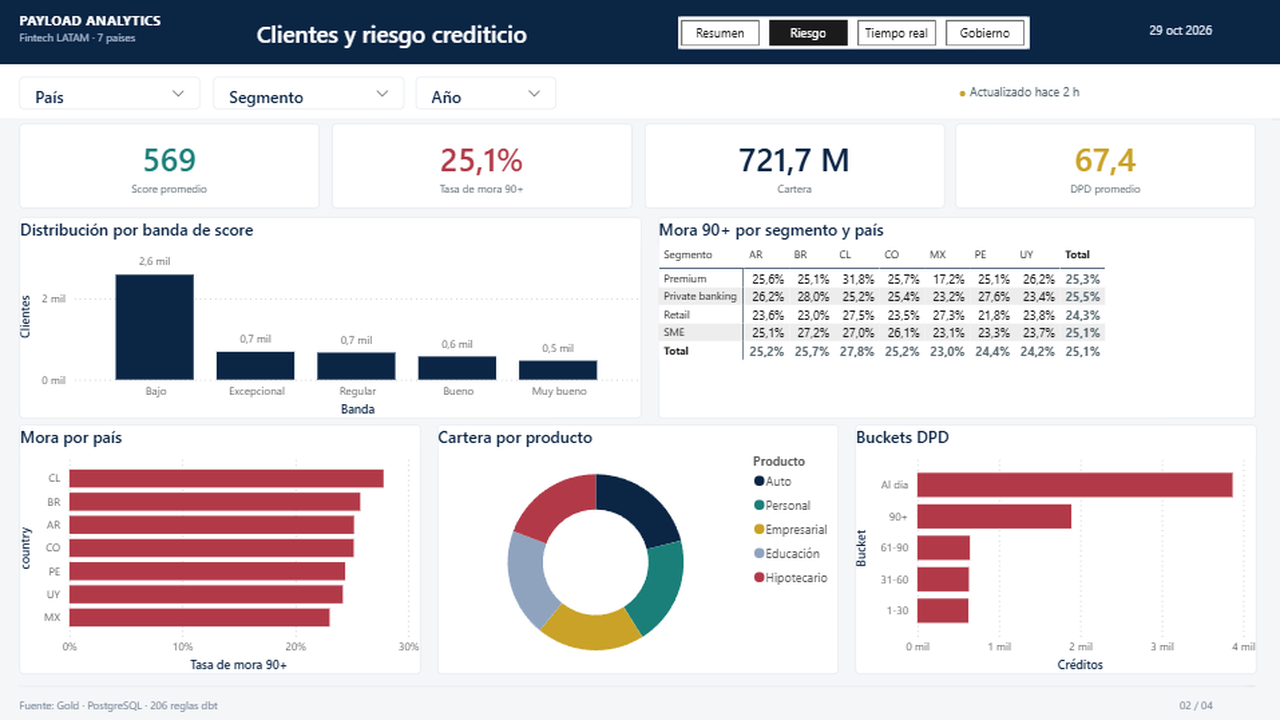

The dashboard page shown, as its layout file describes it:
{"tool":"powerbi","page":{"name":"Riesgo","canvas":[1280,720],"ordinal":1},"visuals":[{"type":"textbox","box":[0,0,1280,720],"z":0},{"type":"textbox","box":[0,64,1280,56],"z":100},{"type":"textbox","box":[24,684,1232,1],"z":100},{"type":"textbox","box":[0,119,1280,1],"z":101},{"type":"slicer","fields":{"Values":["gold dim_customer.country"]},"box":[24,77,180,32],"z":200},{"type":"slicer","fields":{"Values":["gold dim_customer.customer_segment"]},"box":[216,77,190,32],"z":200},{"type":"slicer","fields":{"Values":["gold dim_date.year"]},"box":[418,77,140,32],"z":200},{"type":"card","fields":{"Values":["Medidas.Score promedio"]},"box":[24,124,299,84],"z":200},{"type":"card","fields":{"Values":["Medidas.Tasa de mora 90+"]},"box":[335,124,299,84],"z":200},{"type":"card","fields":{"Values":["Medidas.Cartera"]},"box":[646,124,299,84],"z":200},{"type":"card","fields":{"Values":["Medidas.DPD promedio"]},"box":[957,124,299,84],"z":200},{"type":"clusteredColumnChart","title":"Distribución por banda de score","fields":{"Category":["gold dim_customer.Banda"],"Y":["Medidas.Clientes"]},"box":[24,216,620,200],"z":200},{"type":"pivotTable","title":"Mora 90+ por segmento y país","fields":{"Rows":["gold dim_customer.Segmento"],"Columns":["gold dim_customer.country"],"Values":["Medidas.Tasa de mora 90+"]},"box":[660,216,596,200],"z":200},{"type":"clusteredBarChart","title":"Mora por país","fields":{"Category":["gold dim_customer.country"],"Y":["Medidas.Tasa de mora 90+"]},"box":[24,424,400,248],"z":200},{"type":"donutChart","title":"Cartera por producto","fields":{"Category":["gold fct_loans.Producto"],"Y":["Medidas.Cartera USD"]},"box":[440,424,400,248],"z":200},{"type":"clusteredBarChart","title":"Buckets DPD","fields":{"Category":["gold fct_loans.Bucket"],"Y":["Medidas.Créditos"]},"box":[856,424,400,248],"z":200},{"type":"textbox","box":[0,0,1280,64],"z":1000},{"type":"textbox","box":[680,16,350,32],"z":1090},{"type":"textbox","box":[24,10,230,44],"z":1100},{"type":"pageNavigator","box":[680,16,350,32],"z":1100},{"type":"textbox","box":[260,18,430,30],"z":1100},{"type":"textbox","box":[1150,21,106,22],"z":1100},{"type":"textbox","box":[960,84,296,20],"z":1100},{"type":"textbox","box":[24,694,900,16],"z":1100},{"type":"textbox","box":[1180,694,76,16],"z":1100},{"type":"textbox","box":[0,0,4,64],"z":1200}]}

Visuals, with their boxes in screenshot pixels (x1, y1, x2, y2), scaled from the page's 1280x720 canvas onto the 1280x720 screenshot:
textbox: detection(0, 0, 1279, 719)
textbox: detection(0, 64, 1279, 120)
textbox: detection(24, 684, 1256, 685)
textbox: detection(0, 119, 1279, 120)
slicer - gold dim_customer.country: detection(24, 77, 204, 109)
slicer - gold dim_customer.customer_segment: detection(216, 77, 406, 109)
slicer - gold dim_date.year: detection(418, 77, 558, 109)
card - Medidas.Score promedio: detection(24, 124, 323, 208)
card - Medidas.Tasa de mora 90+: detection(335, 124, 634, 208)
card - Medidas.Cartera: detection(646, 124, 945, 208)
card - Medidas.DPD promedio: detection(957, 124, 1256, 208)
"Distribución por banda de score" clusteredColumnChart: detection(24, 216, 644, 416)
"Mora 90+ por segmento y país" pivotTable: detection(660, 216, 1256, 416)
"Mora por país" clusteredBarChart: detection(24, 424, 424, 672)
"Cartera por producto" donutChart: detection(440, 424, 840, 672)
"Buckets DPD" clusteredBarChart: detection(856, 424, 1256, 672)
textbox: detection(0, 0, 1279, 64)
textbox: detection(680, 16, 1030, 48)
textbox: detection(24, 10, 254, 54)
pageNavigator: detection(680, 16, 1030, 48)
textbox: detection(260, 18, 690, 48)
textbox: detection(1150, 21, 1256, 43)
textbox: detection(960, 84, 1256, 104)
textbox: detection(24, 694, 924, 710)
textbox: detection(1180, 694, 1256, 710)
textbox: detection(0, 0, 4, 64)
